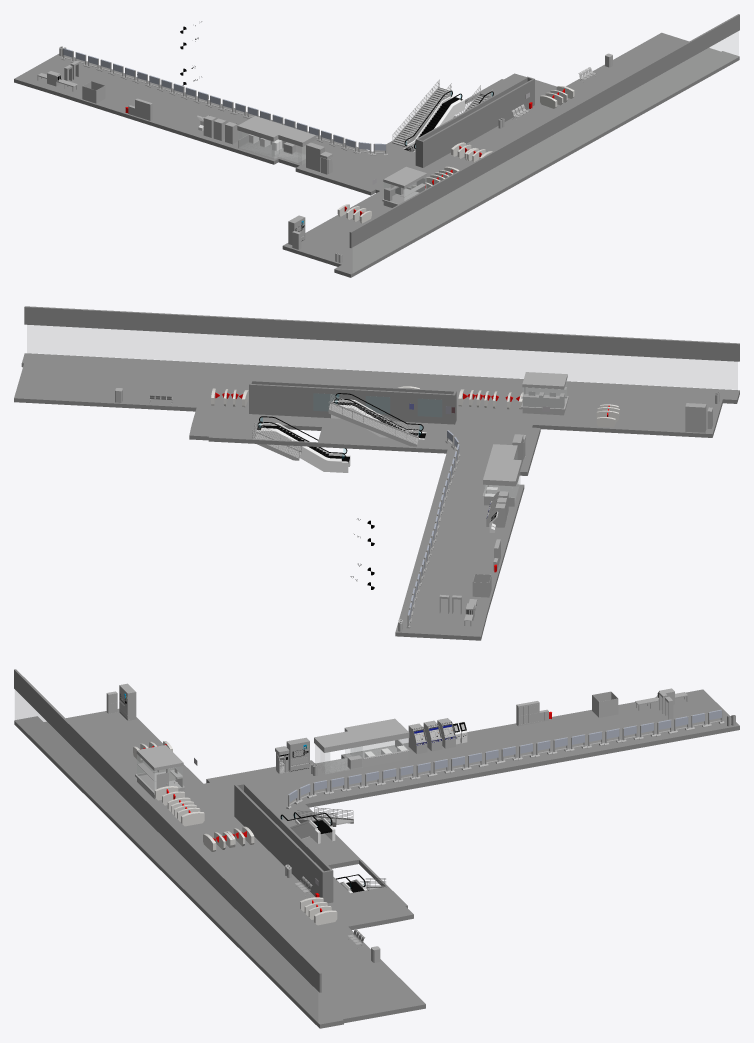
The picture shows the model from 3 angles, top to bottom: view 1: azimuth 30°, elevation 25°; view 2: azimuth 150°, elevation 25°; view 3: azimuth 270°, elevation 25°; orthographic projection. The views are drawn at different scales.
Visible parts, largest first — view 1: 常规楼板 - 400mm [220876], 玻璃 [214615], 常规 - 200mm [221403], 常规 - 200mm [220366], 乘客服务中心 [253868], 指示吊牌 [249922], 乘客服务中心 [253868].004, 楼梯 [238178].002, 常规 - 200mm [220550], 指示吊牌 [249922].001, 治安亭 [254723]; view 2: 常规楼板 - 400mm [220876], 玻璃 [214615], 常规 - 200mm [221403], 常规 - 200mm [220550], 指示吊牌 [249922], 乘客服务中心 [253868], 常规 - 200mm [220366], 指示吊牌 [249922].001, 2.75 m Height [233364].023, 自动贩卖机 [240225].068, 楼梯 [238178].002, 900mm 圆管 [238446].010 (+2 smaller); view 3: 常规楼板 - 400mm [220876], 玻璃 [214615], 常规 - 200mm [221403], 常规 - 200mm [220366], 乘客服务中心 [253868], 指示吊牌 [249922], 乘客服务中心 [253868].004, 常规 - 200mm [220550], 指示吊牌 [249922].001, 治安亭 [254723].
Boxes of the visible parts, x1,y1,x2,y2 form: 常规楼板 - 400mm [220876]: [14, 32, 739, 277]; 玻璃 [214615]: [352, 31, 738, 273]; 常规 - 200mm [221403]: [349, 14, 739, 247]; 常规 - 200mm [220366]: [423, 78, 534, 167]; 乘客服务中心 [253868]: [237, 116, 315, 154]; 指示吊牌 [249922]: [382, 166, 426, 207]; 乘客服务中心 [253868].004: [238, 131, 314, 162]; 楼梯 [238178].002: [392, 87, 449, 146]; 常规 - 200mm [220550]: [417, 77, 527, 140]; 指示吊牌 [249922].001: [384, 176, 426, 203]; 治安亭 [254723]: [82, 81, 105, 103]; 常规楼板 - 400mm [220876]: [14, 353, 739, 640]; 玻璃 [214615]: [27, 325, 737, 389]; 常规 - 200mm [221403]: [24, 306, 739, 361]; 常规 - 200mm [220550]: [251, 384, 452, 424]; 指示吊牌 [249922]: [521, 372, 568, 415]; 乘客服务中心 [253868]: [482, 444, 521, 506]; 常规 - 200mm [220366]: [250, 380, 454, 394]; 指示吊牌 [249922].001: [522, 380, 566, 408]; 2.75 m Height [233364].023: [256, 430, 348, 472]; 自动贩卖机 [240225].068: [685, 403, 706, 432]; 楼梯 [238178].002: [328, 404, 418, 444]; 900mm 圆管 [238446].010: [329, 402, 416, 443]; 常规楼板 - 400mm [220876]: [14, 689, 739, 1028]; 玻璃 [214615]: [15, 690, 318, 1022]; 常规 - 200mm [221403]: [14, 669, 321, 992]; 常规 - 200mm [220366]: [235, 785, 324, 901]; 乘客服务中心 [253868]: [314, 718, 409, 769]; 指示吊牌 [249922]: [135, 745, 184, 799]; 乘客服务中心 [253868].004: [315, 738, 408, 773]; 常规 - 200mm [220550]: [244, 784, 332, 871]; 指示吊牌 [249922].001: [137, 754, 182, 791]; 治安亭 [254723]: [592, 691, 618, 717].
Size of the model in its own units: 67.93 by 9.17 by 62.16.
